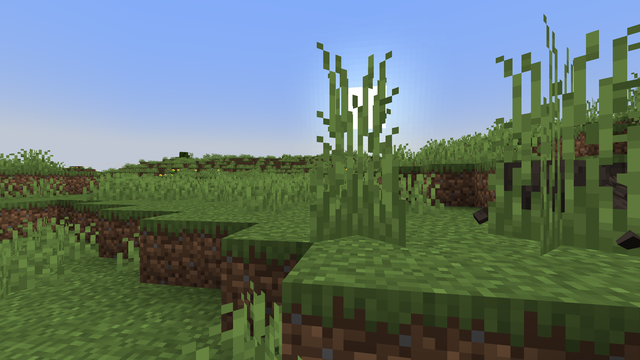araignees: (488, 149, 623, 246)
